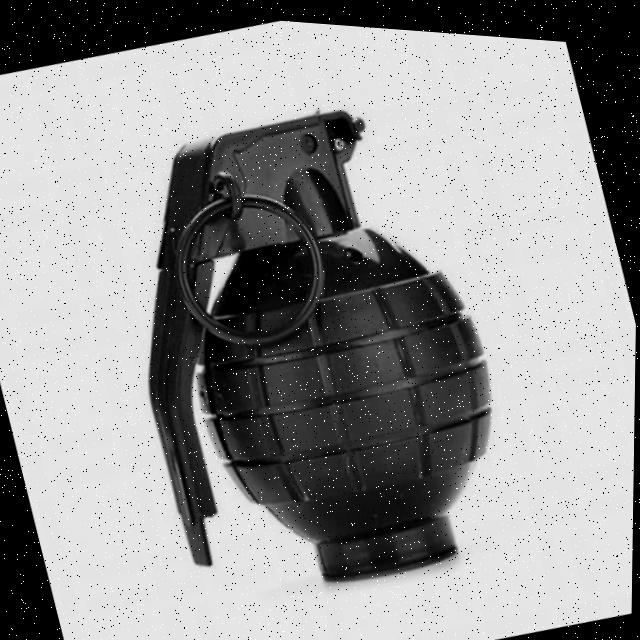grenade: (57, 64, 542, 640)
